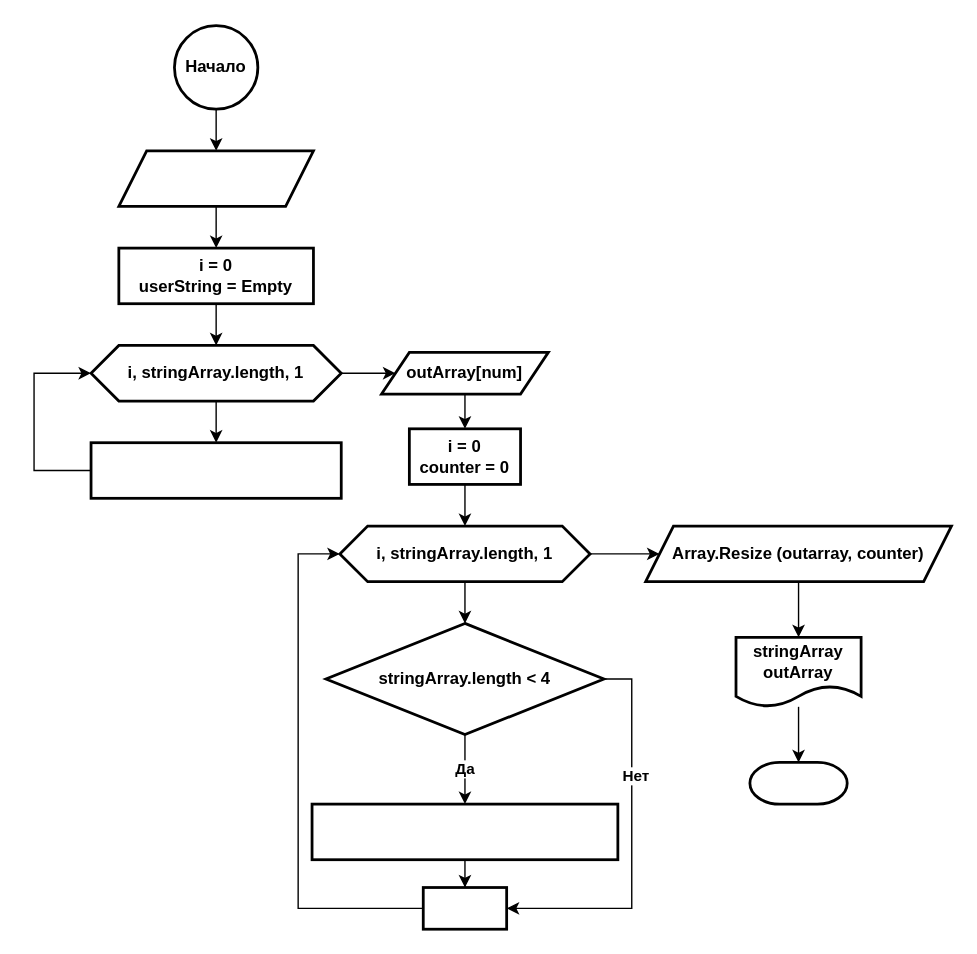
The diagram is 977 pixels wide and 954 high, and some of its shapes have lost their labels. Here are the shapes that lost their labels. From the top down, the centre of each, then its label:
At (215,178): "num stringArray[num]".
At (215,470): "stringArray[i] = userString i++".
At (798,782): "Конец".
At (464,831): "outArray[counter] = stringArray[i] counter++".
At (464,907): "i++".
